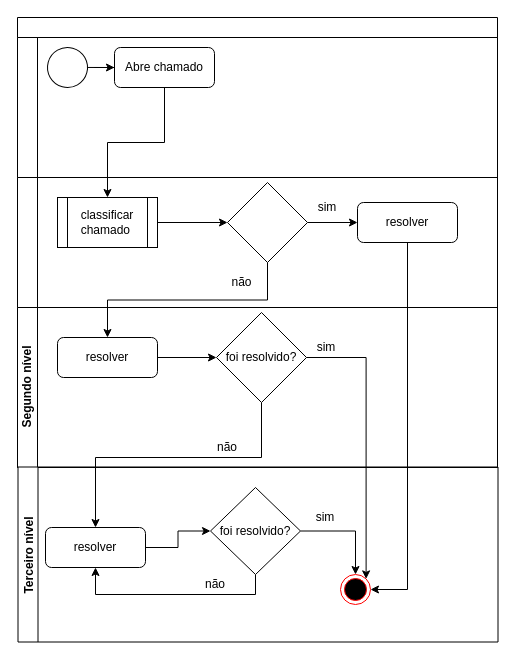
Some shapes in this 516 by 660 pixel diagram are drawn without their labels. The box of each missing label's shape, as (x1, y1, x2, y2) in pixels:
Central de serviços: (16, 176, 498, 308)
pode ser resolvido?: (226, 182, 308, 262)
Resolvendo uma ocorrência: (16, 16, 498, 468)
usuário: (16, 36, 498, 178)
